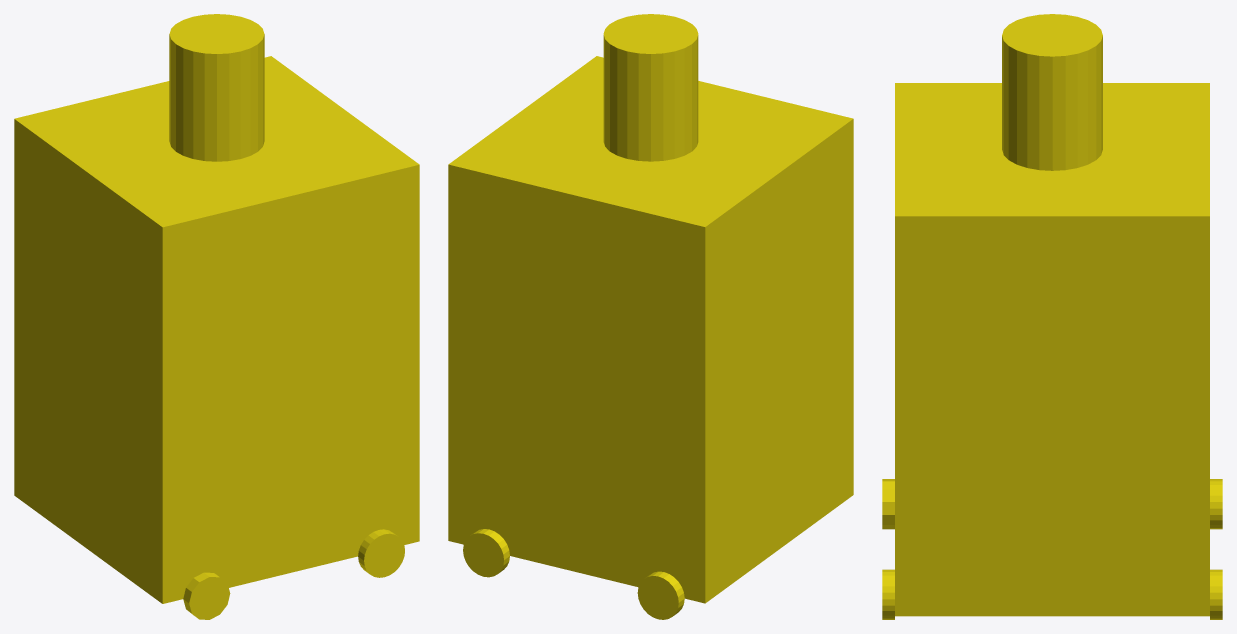
Rendered from gr_jaune.dae.
The picture shows the model from 3 angles, left to right: view 1: azimuth 30°, elevation 25°; view 2: azimuth 150°, elevation 25°; view 3: azimuth 270°, elevation 25°; orthographic projection. The views are drawn at different scales.
Visible parts, largest first — view 1: Group34; view 2: Group34; view 3: Group34.
Part boxes in pixels (x1,y1,x2,y2): Group34: (14,14,419,619); Group34: (448,14,853,619); Group34: (882,14,1222,619).
Size of the model in its own units: 1.34 by 1.44 by 2.51.
